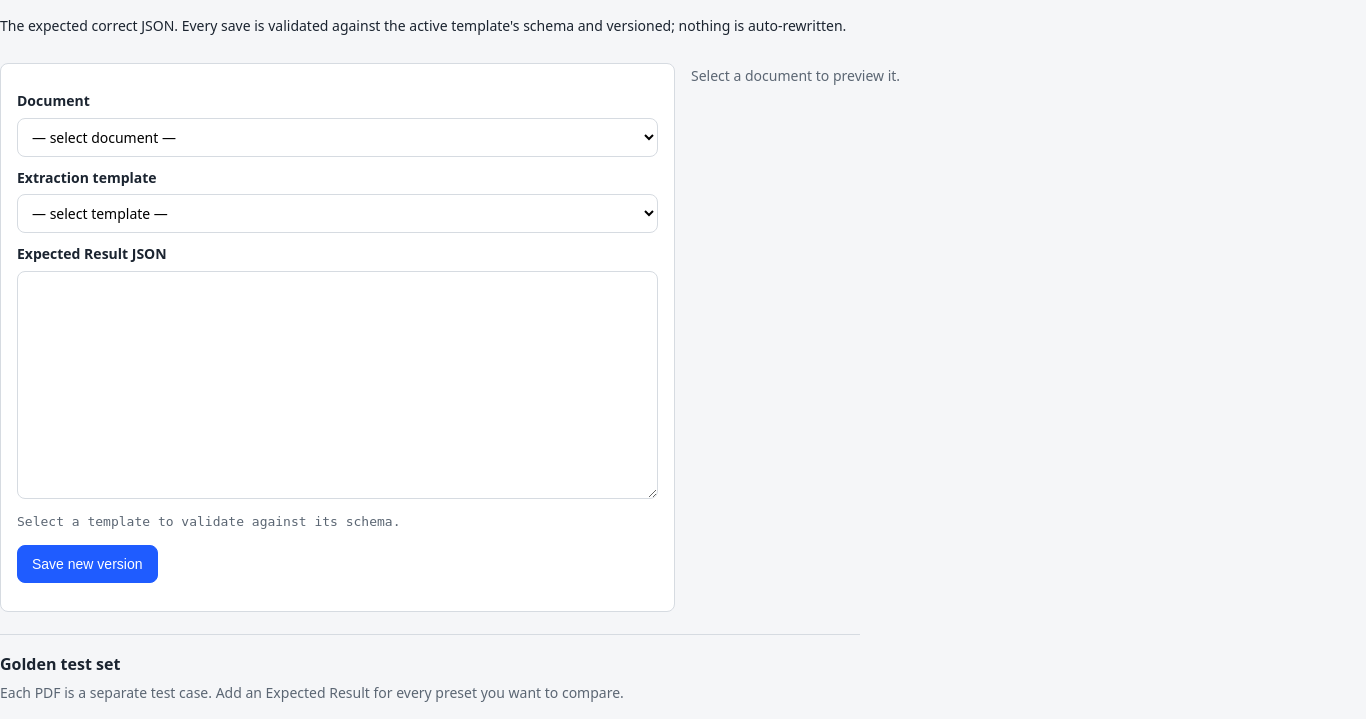
Test: GoldenAnswersPage › shows one golden test case per document for the selected template
Select "PO reduced (v1)" in the dropdown labelled "Extraction template": [338, 214] box [17,194,658,233]
(page scrolled)
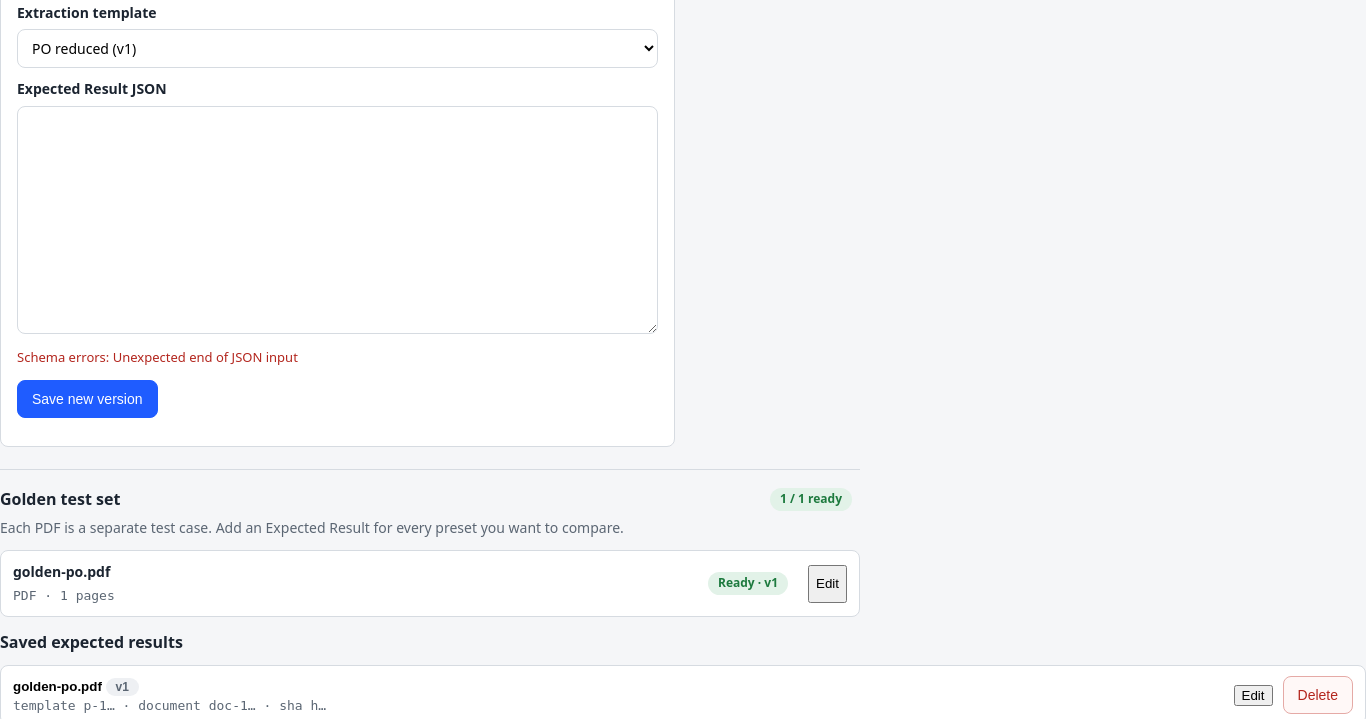
Expected: the heading "Golden test set" is shown, [0,488,120,510]
Expected: the text "1 / 1 ready" is shown, [770,488,852,511]
Expected: the text "Ready · v1" is shown, [708,572,788,595]
